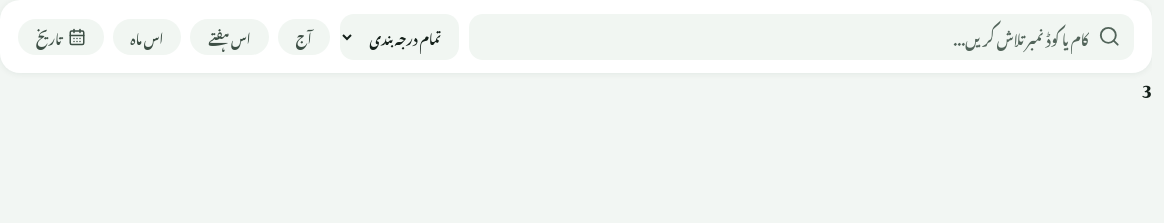
Scenario: FilterBar (docs/08-ui-ux.md §5, docs/09-frontend-features.md §5) › shows "Clear all filters" only once a filter is active
The image size is (1164, 223).
Expected: the text "تمام فلٹرز صاف کریں" is not shown
Click the button "تاریخ": coordinates (61, 36) [18,18,104,54]
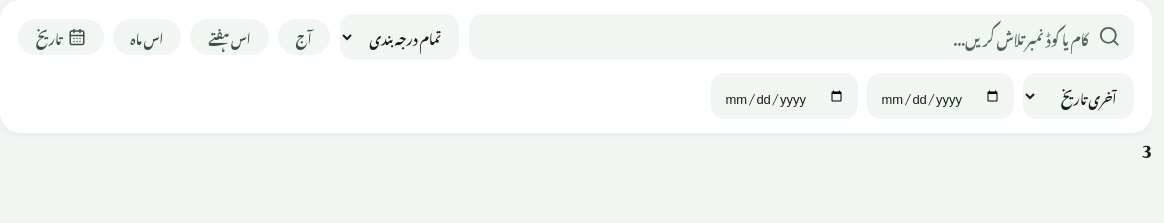
In the date field named "از تاریخ": coordinates (940, 96) [867,73,1014,119], type "2026-08-01"
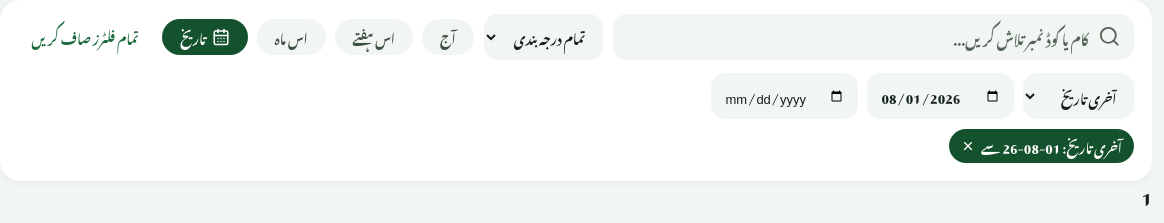
Expected: the button "تمام فلٹرز صاف کریں" is shown
Click the button "تمام فلٹرز صاف کریں": coordinates (85, 36) [18,16,152,56]
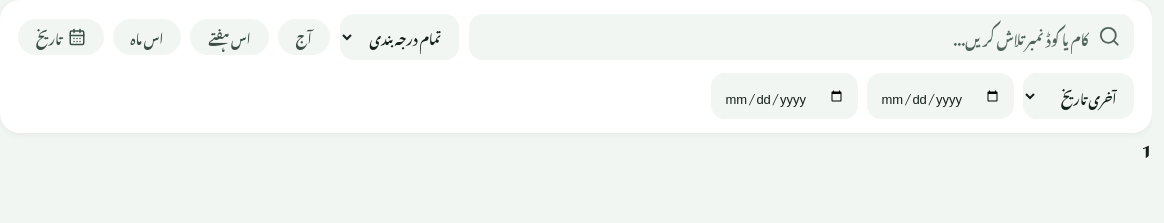
Expected: the button "تمام فلٹرز صاف کریں" is gone
